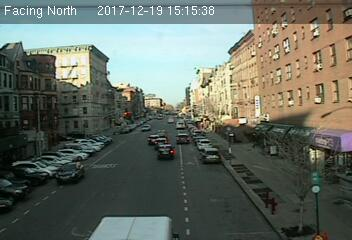car: (54, 161, 84, 182), (200, 147, 220, 163), (156, 144, 175, 158), (175, 133, 191, 145), (154, 137, 167, 150), (175, 120, 185, 130)
